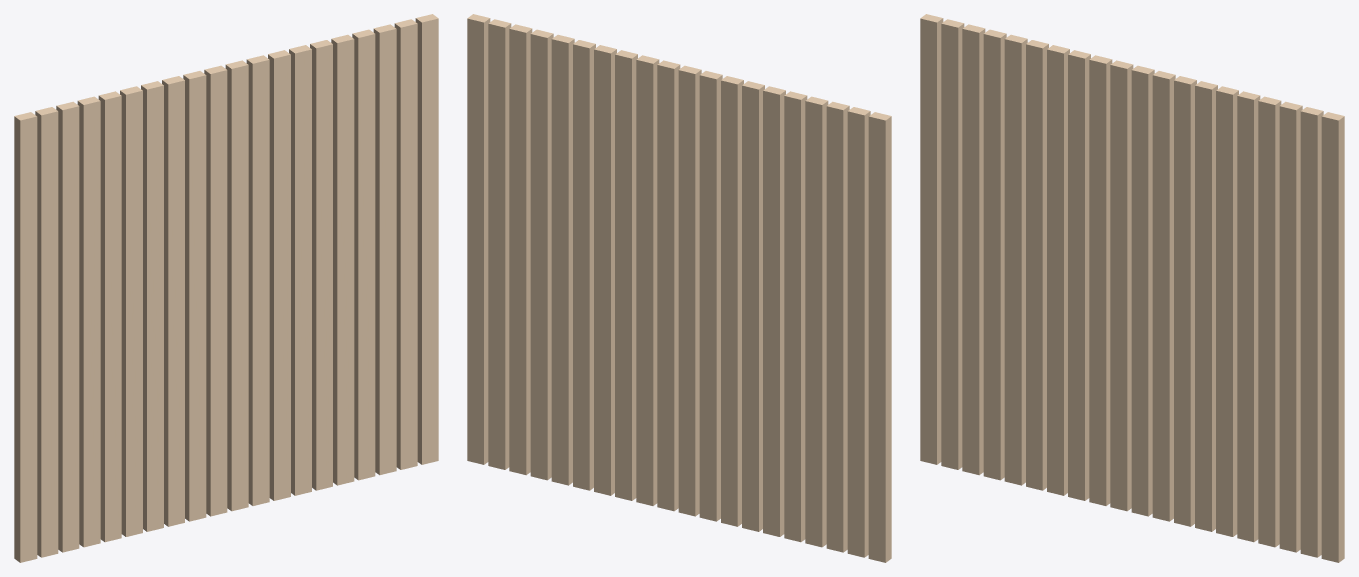
The model's file is Module_Wood_Slats.glb.
3 views of the same model, side by side, from view 1: azimuth 30°, elevation 25°; view 2: azimuth 150°, elevation 25°; view 3: azimuth 330°, elevation 25° (orthographic).
Visible parts, largest first — view 1: Module_Wood_Slats; view 2: Module_Wood_Slats; view 3: Module_Wood_Slats.
Part boxes in pixels (x1,y1,x2,y2): Module_Wood_Slats: [14, 14, 438, 562]; Module_Wood_Slats: [467, 14, 891, 562]; Module_Wood_Slats: [920, 14, 1344, 562].
Bounding box in the file's own units: 1.98 × 2 × 0.05.
